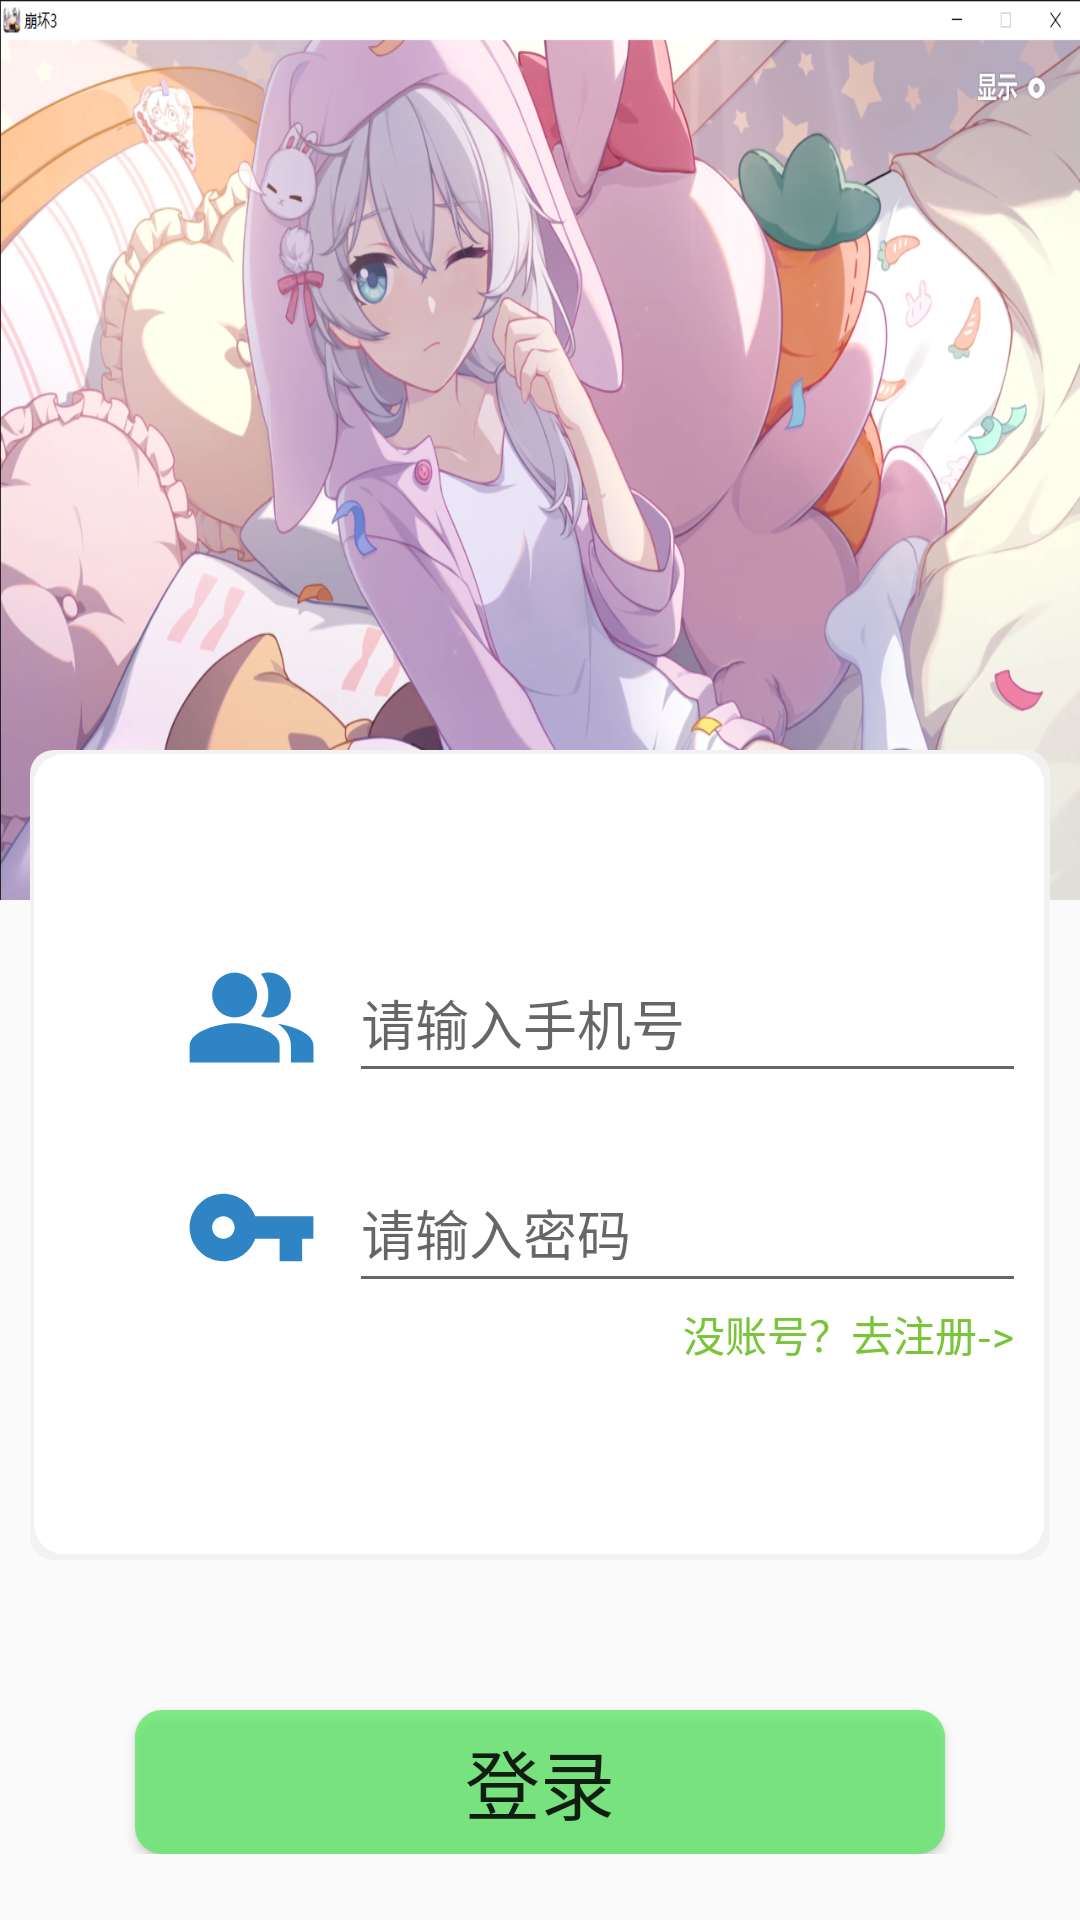

Where to tap for icons on this 1080px×1920px app screen, as [x,y]:
password: [251,1227]
